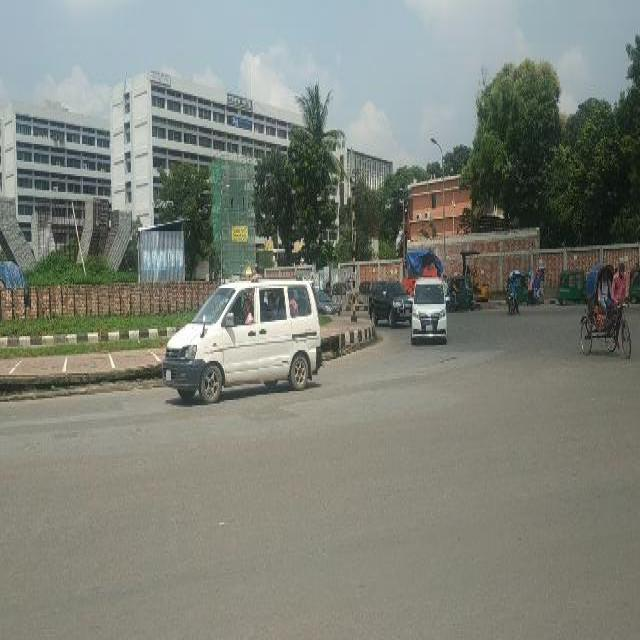bike: (448, 293, 468, 313), (507, 287, 519, 319)
vehicle: (162, 275, 327, 406), (585, 262, 630, 367), (411, 277, 449, 344), (371, 277, 412, 329), (557, 268, 585, 307), (316, 288, 342, 318), (332, 278, 355, 307), (466, 275, 476, 314), (630, 268, 640, 303), (359, 281, 370, 304)
